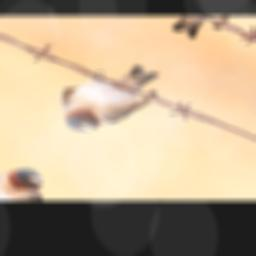Swallow: (39, 50, 174, 145)
